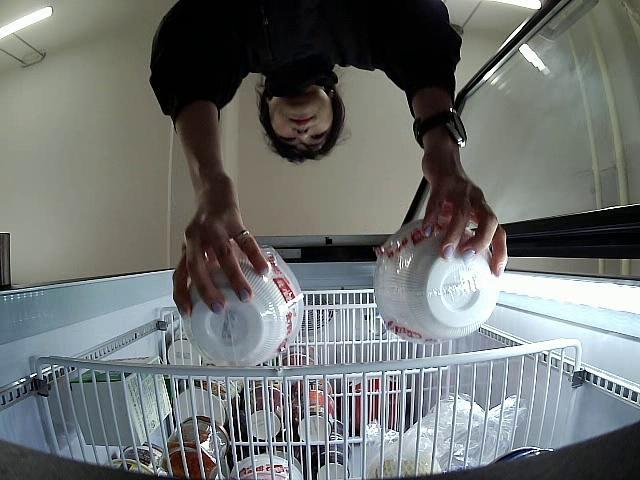09_yukGaeJang: (374, 220, 501, 342), (180, 246, 303, 367)
